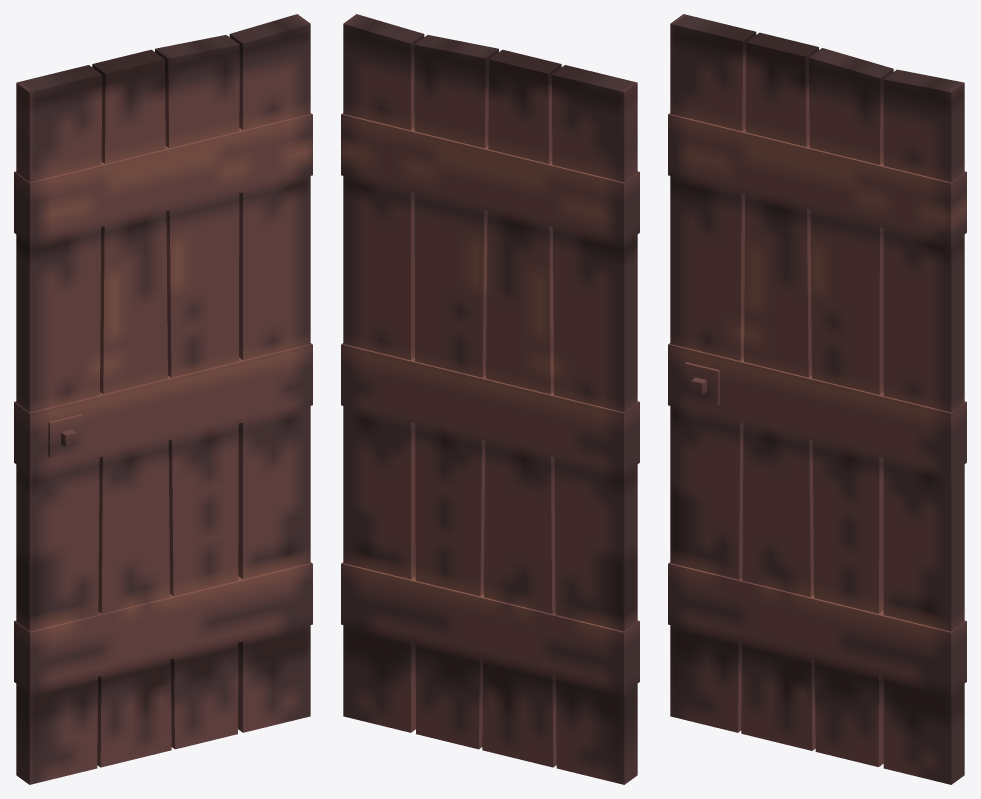
The model's file is door.fbx.
The picture shows the model from 3 angles, left to right: view 1: azimuth 30°, elevation 25°; view 2: azimuth 150°, elevation 25°; view 3: azimuth 330°, elevation 25°; orthographic projection.
Parts seen in each view (by area): view 1: Door_01_LOD2; view 2: Door_01_LOD2; view 3: Door_01_LOD2.
Boxes of the visible parts, bbox=[...] form: Door_01_LOD2: bbox=[14, 14, 312, 784]; Door_01_LOD2: bbox=[341, 14, 639, 784]; Door_01_LOD2: bbox=[668, 14, 966, 784].
Size of the model in its own units: 85.5 by 200 by 11.64.
